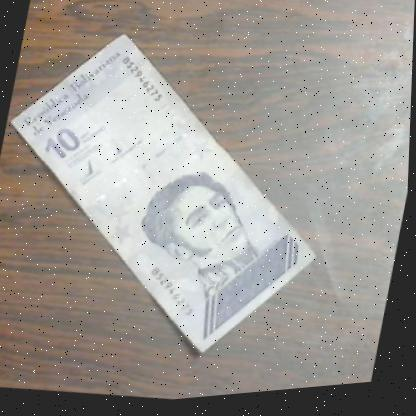ten-front-vef: (0, 2, 360, 388)
